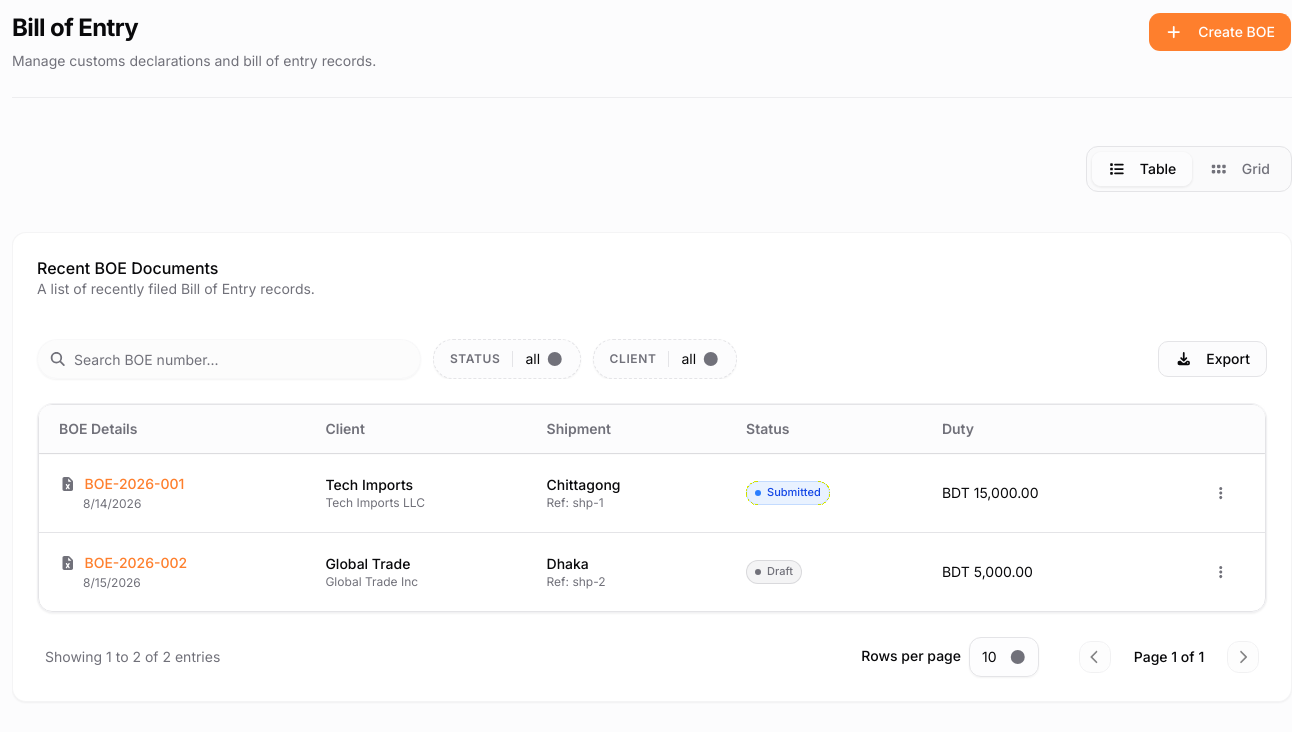
BOE List Page › filters BOEs by search term
The width and height of the screenshot is (1292, 732).
Type "001" into the field with placeholder "Search BOE number..." at coordinates (229, 359), box [37,339,421,379]
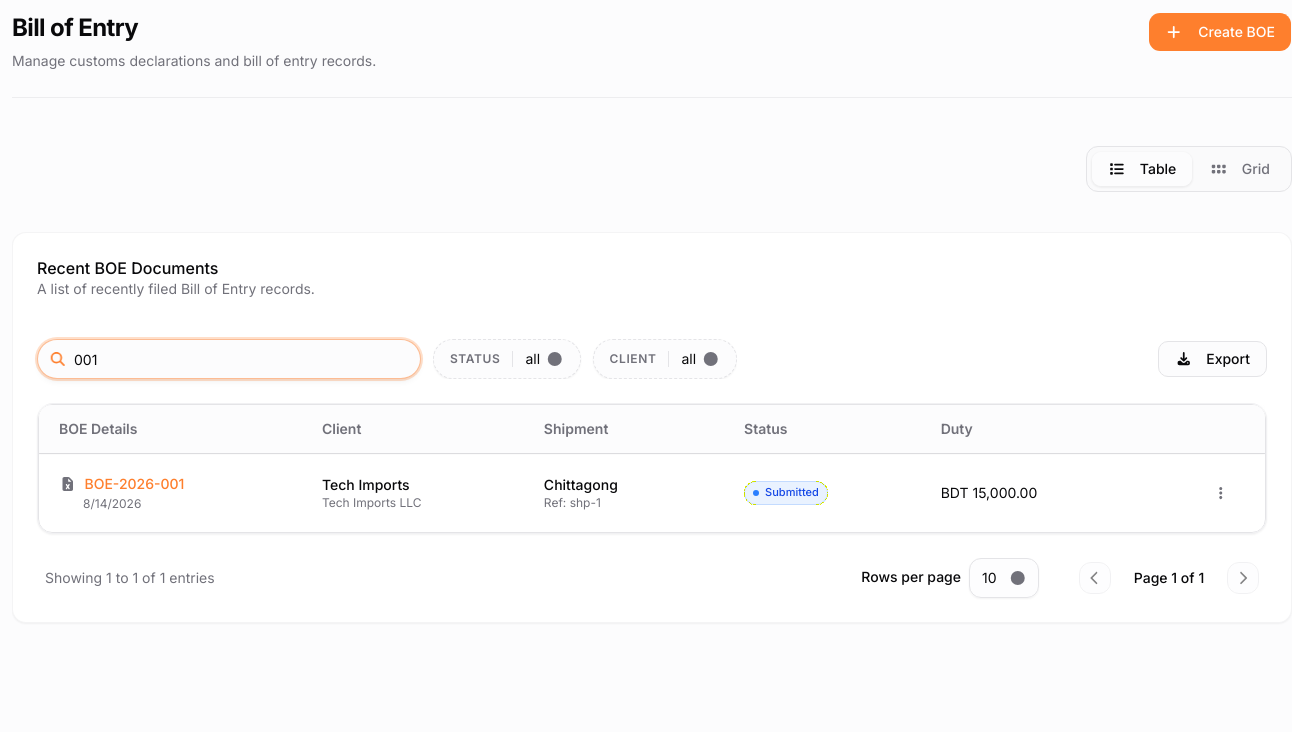
Check: the text "BOE-2026-001" is shown, box [84,473,184,493]
Check: the link "BOE-2026-002" is gone
